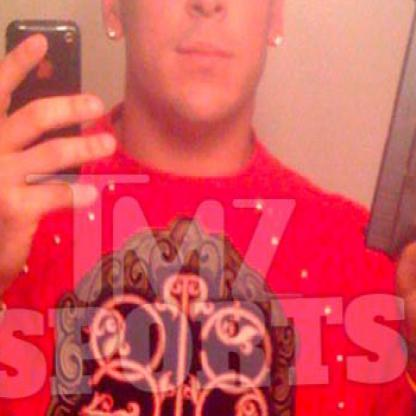gun: (340, 0, 415, 346)
